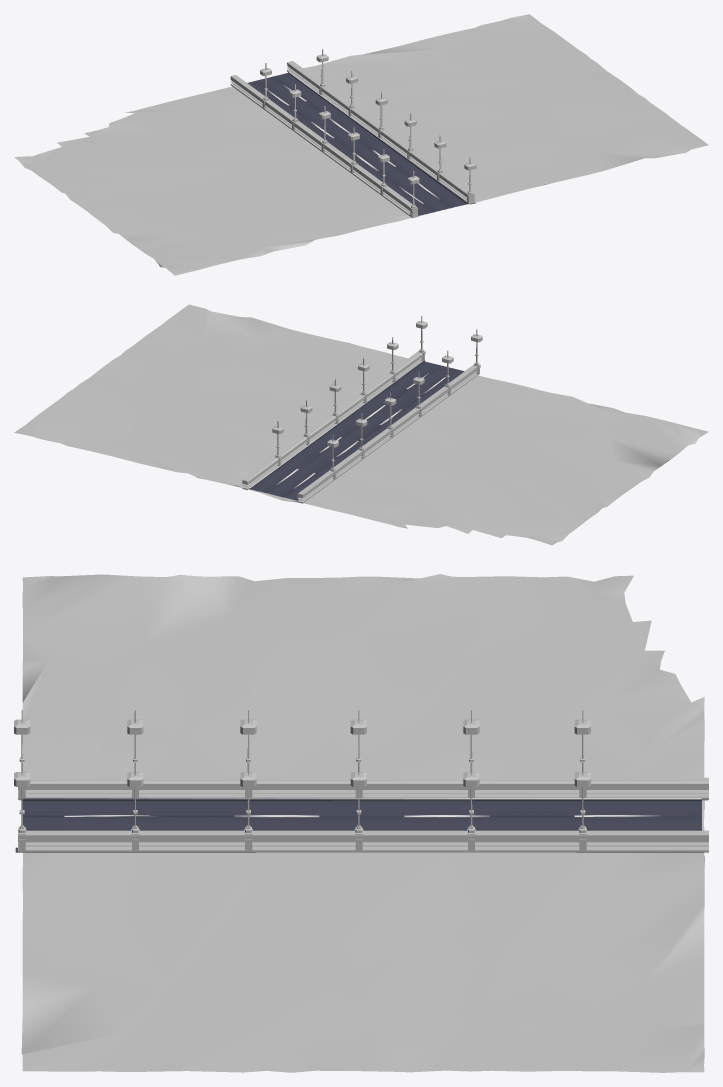
The model's file is bridge1111.fbx.
3 renders of one model, top to bottom at view 1: azimuth 30°, elevation 25°; view 2: azimuth 150°, elevation 25°; view 3: azimuth 270°, elevation 25°, orthographic. The views are drawn at different scales.
Visible parts, largest first — view 1: Cube.001; view 2: Cube.001; view 3: Cube.001.
Part boxes in pixels (bbox=[...]): Cube.001: bbox=[14, 14, 708, 275]; Cube.001: bbox=[14, 304, 708, 545]; Cube.001: bbox=[14, 574, 708, 1072].
Size of the model in its own units: 9308 by 819 by 5518.
